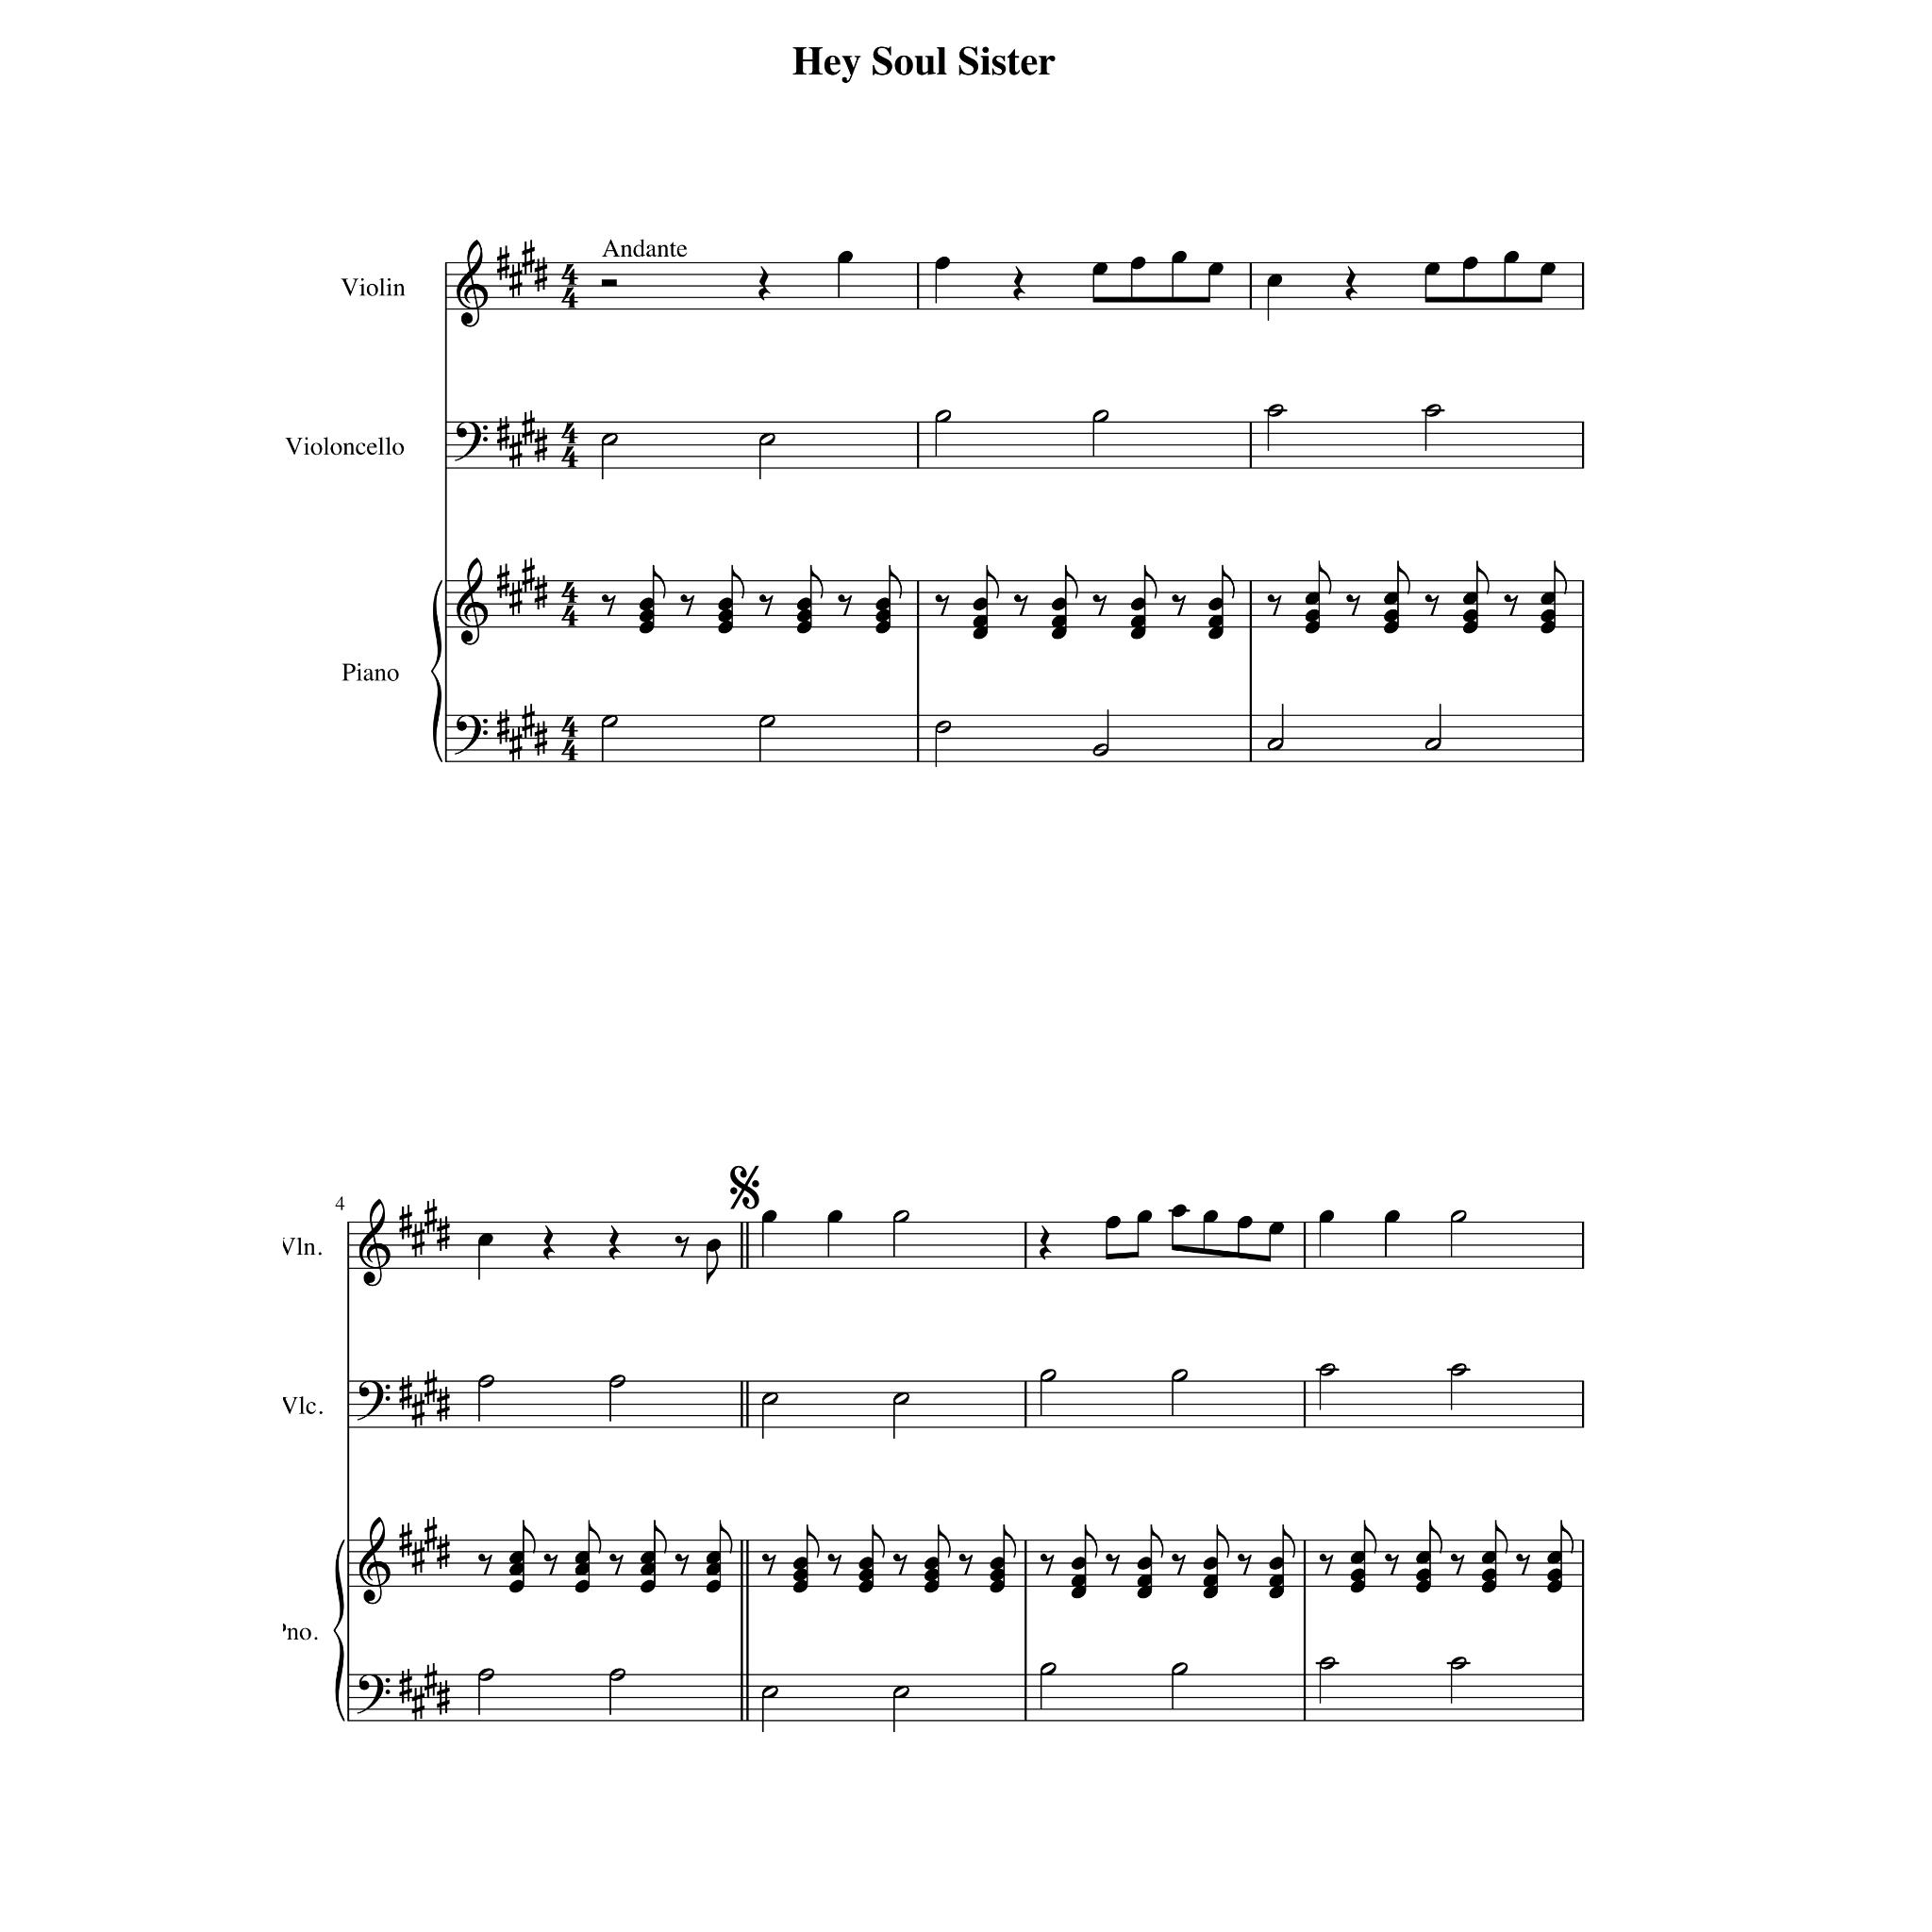brace: (430, 580, 442, 763), (333, 1539, 345, 1721)
fClef: (453, 421, 488, 462), (453, 715, 488, 755), (357, 1380, 391, 1421), (357, 1674, 391, 1714)
flag8thDown: (706, 1249, 718, 1284)
flag8thUp: (1221, 564, 1235, 600), (731, 564, 745, 600), (985, 564, 1000, 600), (888, 564, 902, 600), (1476, 561, 1490, 594), (1553, 561, 1568, 594), (1318, 561, 1332, 594), (1085, 1525, 1099, 1559), (1495, 1520, 1509, 1553), (587, 1520, 602, 1553), (522, 1520, 536, 1553), (1145, 564, 1157, 600), (653, 564, 665, 600), (810, 564, 823, 600), (1065, 564, 1077, 600), (1398, 561, 1410, 594), (1217, 1525, 1230, 1559), (1150, 1525, 1162, 1559), (1430, 1520, 1442, 1553), (1560, 1520, 1573, 1553), (1283, 1525, 1295, 1559), (1364, 1520, 1376, 1553), (655, 1520, 667, 1553), (872, 1525, 885, 1559), (720, 1520, 732, 1553), (1003, 1525, 1016, 1559), (938, 1525, 950, 1559), (807, 1525, 819, 1559)
gClef: (456, 239, 488, 329), (456, 557, 488, 646), (359, 1516, 391, 1605), (359, 1198, 391, 1286)
noteheadBlack: (1539, 609, 1557, 623), (1539, 262, 1557, 276), (971, 614, 989, 628), (971, 626, 989, 640), (1384, 1210, 1401, 1224), (573, 1580, 591, 1594), (1304, 609, 1320, 623), (1131, 614, 1146, 628), (1131, 626, 1146, 640), (1208, 614, 1224, 628), (1208, 626, 1224, 640), (1208, 262, 1224, 276), (1424, 262, 1440, 276), (1382, 609, 1398, 623), (1461, 609, 1477, 623), (718, 609, 734, 623), (639, 609, 655, 623), (796, 609, 812, 623), (1051, 614, 1067, 628), (1092, 262, 1108, 276), (1051, 626, 1067, 640), (876, 609, 892, 623), (1203, 1210, 1219, 1224), (1203, 1585, 1219, 1599), (1269, 1585, 1284, 1599), (1269, 1557, 1284, 1571), (1203, 1557, 1219, 1571), (1237, 1215, 1253, 1230), (1269, 1221, 1284, 1235), (1136, 1210, 1152, 1224), (1136, 1585, 1152, 1599), (1136, 1557, 1152, 1571), (1106, 1215, 1122, 1230), (1070, 1557, 1086, 1571), (1070, 1585, 1086, 1599), (1481, 1580, 1497, 1594), (1481, 1568, 1497, 1582), (1546, 1568, 1562, 1582), (1546, 1580, 1562, 1594), (1318, 1210, 1334, 1224), (1415, 1568, 1431, 1582), (1415, 1580, 1431, 1594), (1350, 1568, 1366, 1582), (1350, 1580, 1366, 1594), (706, 1238, 722, 1253), (706, 1580, 722, 1594), (639, 1580, 655, 1594), (508, 1580, 524, 1594), (858, 1557, 874, 1571), (858, 1568, 874, 1582), (858, 1580, 874, 1594), (826, 1210, 842, 1224), (989, 1557, 1005, 1571), (989, 1568, 1005, 1582), (989, 1580, 1005, 1594), (924, 1557, 939, 1571), (924, 1568, 939, 1582), (924, 1580, 939, 1594), (761, 1210, 777, 1224), (793, 1568, 809, 1582), (793, 1557, 809, 1571), (793, 1580, 809, 1594), (1539, 593, 1557, 605), (1539, 621, 1557, 633), (971, 598, 989, 610), (573, 1562, 591, 1575), (573, 1552, 591, 1564), (1267, 274, 1283, 287), (1304, 621, 1320, 633), (1131, 598, 1146, 610), (1131, 257, 1146, 269), (1208, 598, 1224, 610), (1171, 251, 1187, 264), (1504, 251, 1520, 264), (1382, 593, 1398, 605), (1382, 621, 1398, 633), (1461, 593, 1477, 605), (1461, 621, 1477, 633), (1461, 257, 1477, 269), (1304, 593, 1320, 605), (718, 598, 734, 610), (718, 621, 734, 633), (639, 598, 655, 610), (639, 621, 655, 633), (796, 598, 812, 610), (796, 621, 812, 633), (1051, 598, 1067, 610), (934, 257, 950, 269), (876, 598, 892, 610), (876, 621, 892, 633), (837, 251, 853, 264), (1203, 1575, 1219, 1587), (1171, 1205, 1187, 1217), (1269, 1575, 1284, 1587), (1136, 1575, 1152, 1587), (1070, 1575, 1086, 1587), (1481, 1552, 1497, 1564), (1546, 1552, 1562, 1564), (1415, 1552, 1431, 1564), (1350, 1552, 1366, 1564), (706, 1552, 722, 1564), (706, 1562, 722, 1575), (639, 1552, 655, 1564), (639, 1562, 655, 1575), (508, 1562, 524, 1575), (508, 1552, 524, 1564), (478, 1233, 494, 1246)
noteheadHalf: (1092, 743, 1109, 757), (1092, 409, 1109, 423), (934, 720, 952, 734), (934, 409, 952, 423), (1318, 1656, 1336, 1670), (1318, 1362, 1336, 1376), (892, 1210, 909, 1224), (892, 1686, 909, 1700), (761, 1686, 778, 1700), (759, 715, 775, 729), (602, 715, 617, 729), (1171, 1368, 1187, 1382), (1451, 1656, 1467, 1670), (1451, 1362, 1467, 1376), (1451, 1210, 1467, 1224), (1040, 1368, 1056, 1382), (1267, 738, 1284, 750), (1267, 405, 1284, 418), (1424, 405, 1442, 418), (1424, 738, 1442, 750), (609, 1375, 626, 1387), (609, 1668, 626, 1681), (892, 1392, 909, 1405), (761, 1392, 778, 1405), (759, 433, 775, 446), (602, 433, 617, 446), (1171, 1663, 1187, 1675), (478, 1668, 494, 1681), (478, 1375, 494, 1387), (1040, 1663, 1056, 1675)
rest8th: (1267, 594, 1283, 617), (1424, 594, 1440, 617), (1345, 594, 1361, 617), (934, 594, 950, 617), (1237, 1553, 1253, 1576), (1104, 1553, 1120, 1576), (1514, 1553, 1530, 1576), (1318, 1553, 1334, 1576), (1384, 1553, 1399, 1576), (543, 1553, 559, 1576), (674, 1553, 690, 1576), (674, 1235, 690, 1258), (892, 1553, 908, 1576), (761, 1553, 777, 1576), (1171, 594, 1185, 617), (1504, 594, 1518, 617), (679, 594, 694, 617), (759, 594, 773, 617), (602, 594, 616, 617), (1092, 594, 1106, 617), (1014, 594, 1028, 617), (837, 594, 851, 617), (1171, 1553, 1185, 1576), (1451, 1553, 1465, 1576), (609, 1553, 623, 1576), (478, 1553, 492, 1576), (828, 1553, 842, 1576), (1040, 1553, 1054, 1576), (959, 1553, 973, 1576)
restHalf: (600, 280, 616, 287)
restQuarter: (1345, 265, 1357, 303), (757, 265, 770, 303), (1012, 265, 1024, 303), (609, 1224, 621, 1260), (543, 1224, 556, 1260), (1039, 1224, 1051, 1260)
